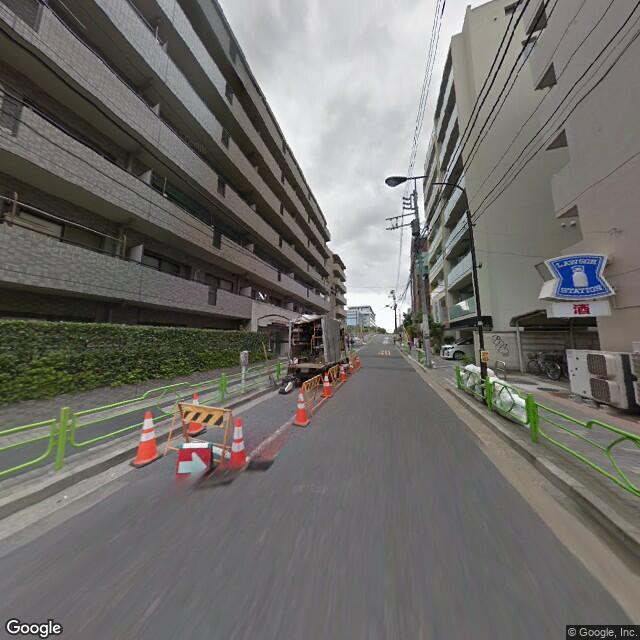lawson: (542, 249, 610, 307)
